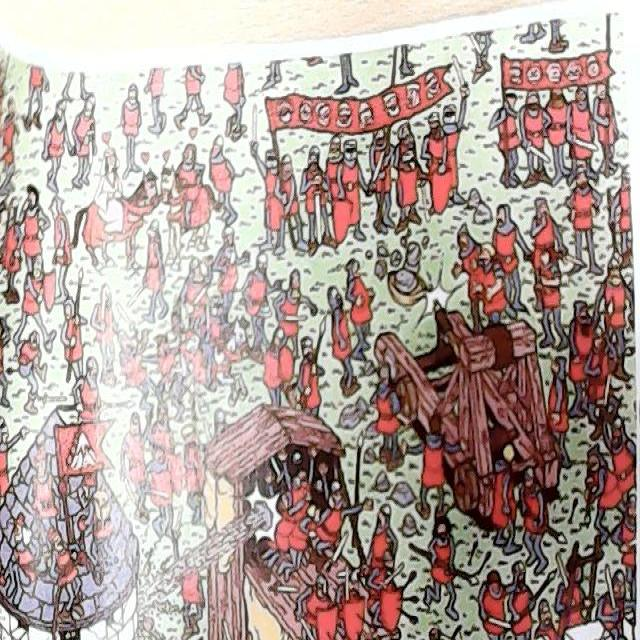waldo: (282, 375, 303, 416)
